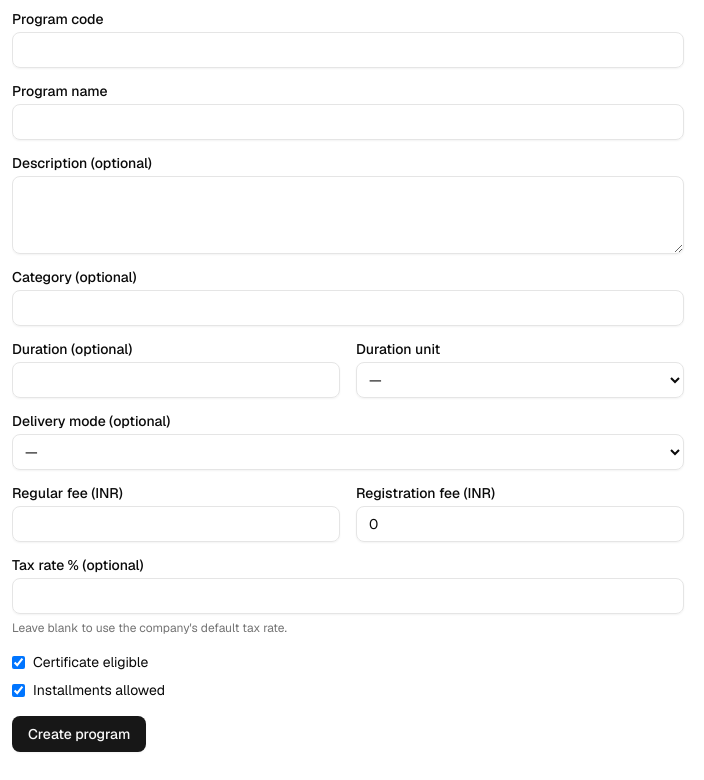
ProgramForm + createProgramAction: duplicate-code failure preserves the form › keeps every typed field after a duplicate-code error instead of clearing the form
The image size is (704, 780).
Type "FSD-101" into the field labelled "Program code" at (348, 50), box [12,32,684,68]
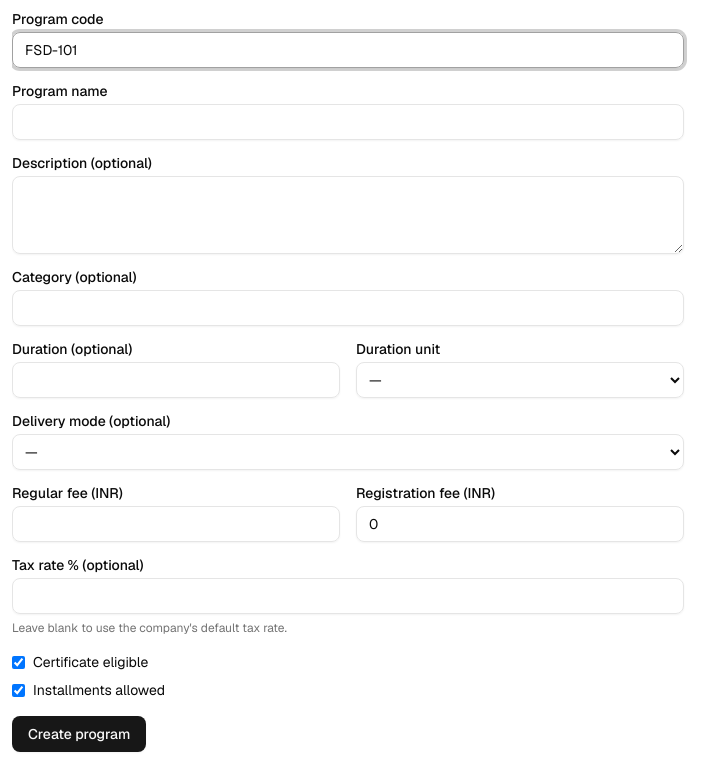
Type "Full Stack Development" into the field labelled "Program name" at (348, 122), box [12,104,684,140]
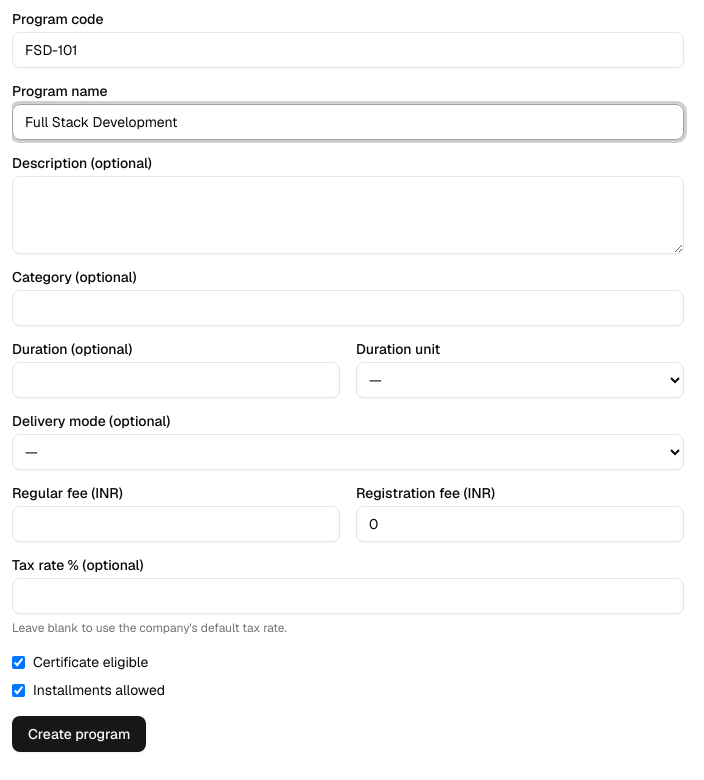
Type "50000" into the number field labelled "Regular fee (INR)" at (176, 524), box [12,506,340,542]
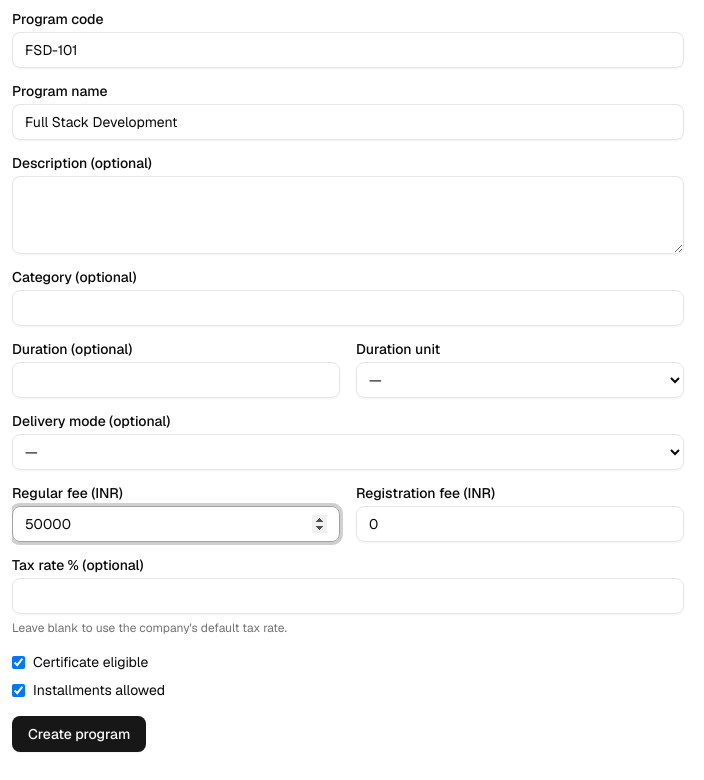
Click the button "Create program" at (79, 734), box [12,716,146,752]
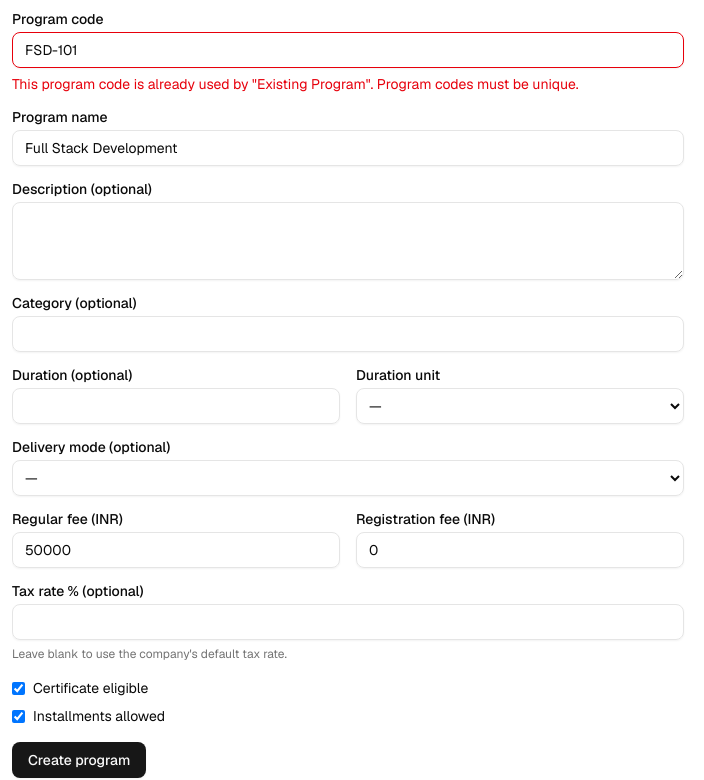
Result: the field labelled "Program code" holds "FSD-101" at [12,32,684,68]
Result: the field labelled "Program name" holds "Full Stack Development" at [12,130,684,166]
Result: the text "already used by \"Existing Program\"" is shown at [12,75,579,93]
